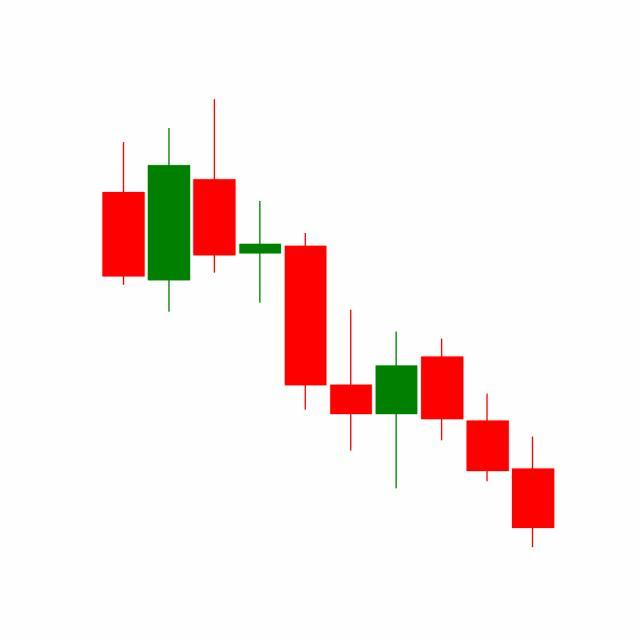Hikkake Pattern: (283, 230, 512, 492)
